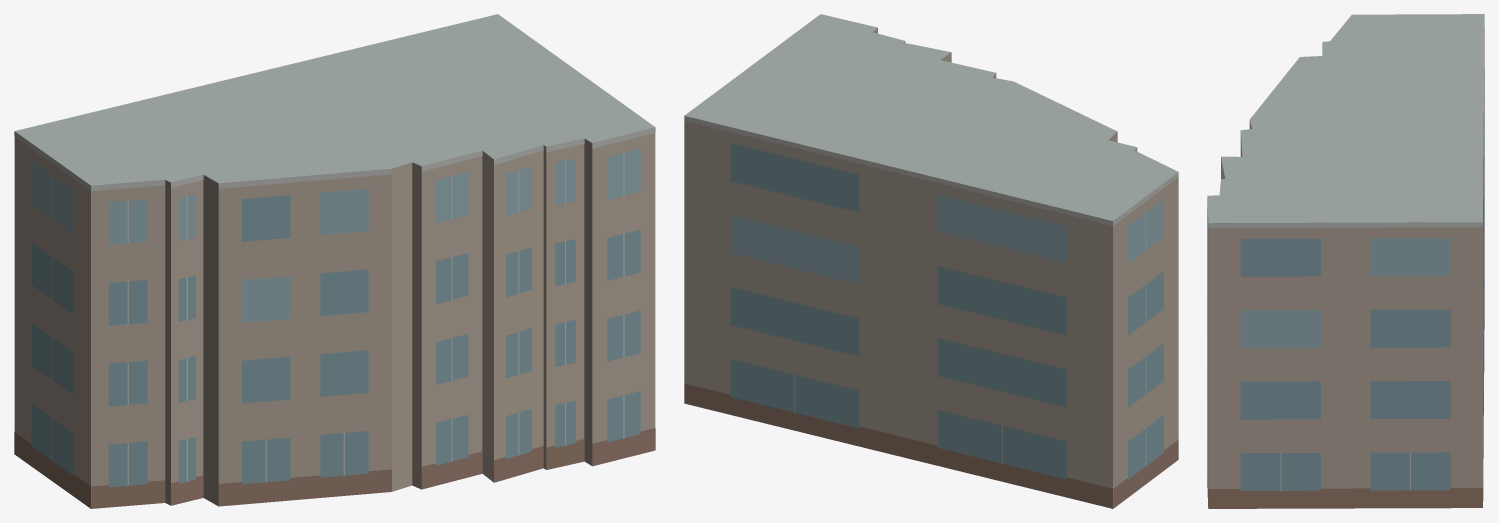
The model's file is survey-upis-32778015.glb.
The picture shows the model from 3 angles, left to right: view 1: azimuth 30°, elevation 25°; view 2: azimuth 150°, elevation 25°; view 3: azimuth 270°, elevation 25°; orthographic projection. The views are drawn at different scales.
Parts seen in each view (by area): view 1: survey-upis-32778015.tmp; view 2: survey-upis-32778015.tmp; view 3: survey-upis-32778015.tmp.
Part boxes in pixels (x1=…): survey-upis-32778015.tmp: x1=14, y1=14, x2=655, y2=508; survey-upis-32778015.tmp: x1=684, y1=14, x2=1178, y2=508; survey-upis-32778015.tmp: x1=1207, y1=14, x2=1484, y2=508.
Size of the model in its own units: 22.17 by 14.12 by 12.43.
